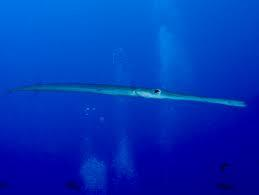Fistularia commersonii: (7, 80, 247, 109)
